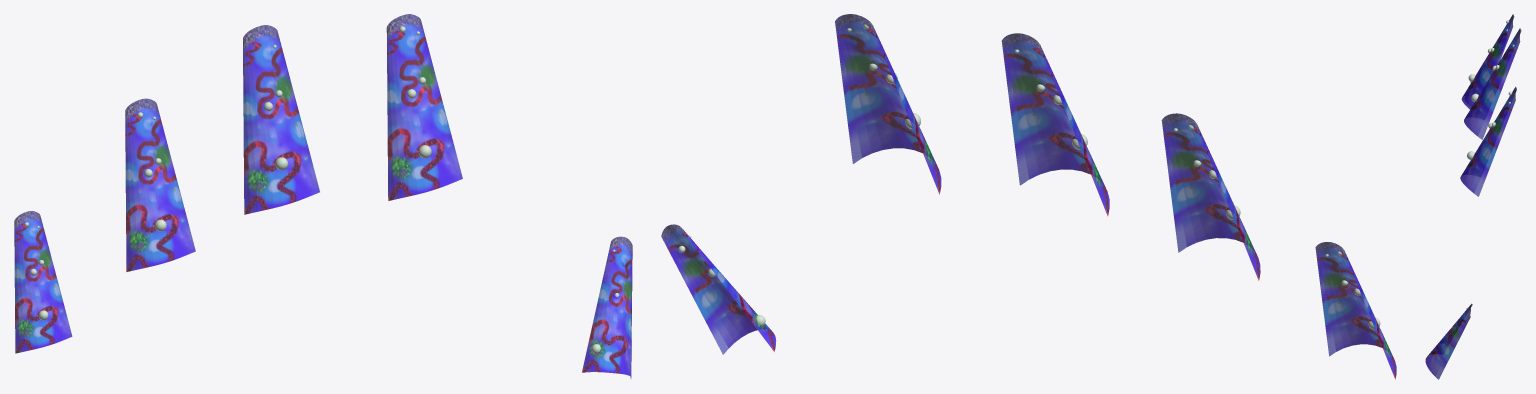
The model's file is eins.glb.
The picture shows the model from 3 angles, left to right: view 1: azimuth 30°, elevation 25°; view 2: azimuth 150°, elevation 25°; view 3: azimuth 270°, elevation 25°; orthographic projection. The views are drawn at different scales.
Parts seen in each view (by area): view 1: Cylinder.001, Cylinder.002, Cylinder.003, Cylinder.004, Cylinder.005; view 2: Cylinder.001, Cylinder.002, Cylinder.003, Cylinder.005, Cylinder.004; view 3: Cylinder.001, Cylinder.002, Cylinder.005, Cylinder.003.
Part boxes in pixels (x1,y1,x2,y2): Cylinder.001: (243,25,319,214); Cylinder.002: (386,14,462,200); Cylinder.003: (125,98,195,271); Cylinder.004: (14,211,72,353); Cylinder.005: (582,236,632,378); Cylinder.001: (1001,33,1109,216); Cylinder.002: (835,14,941,194); Cylinder.003: (1161,113,1260,280); Cylinder.005: (661,224,776,354); Cylinder.004: (1315,242,1396,379); Cylinder.001: (1464,28,1521,139); Cylinder.002: (1460,86,1516,196); Cylinder.005: (1425,303,1472,379); Cylinder.003: (1461,14,1514,109).
Size of the model in its own units: 4.97 by 2.99 by 1.03.
Materials: 2 (1 with a texture image).
